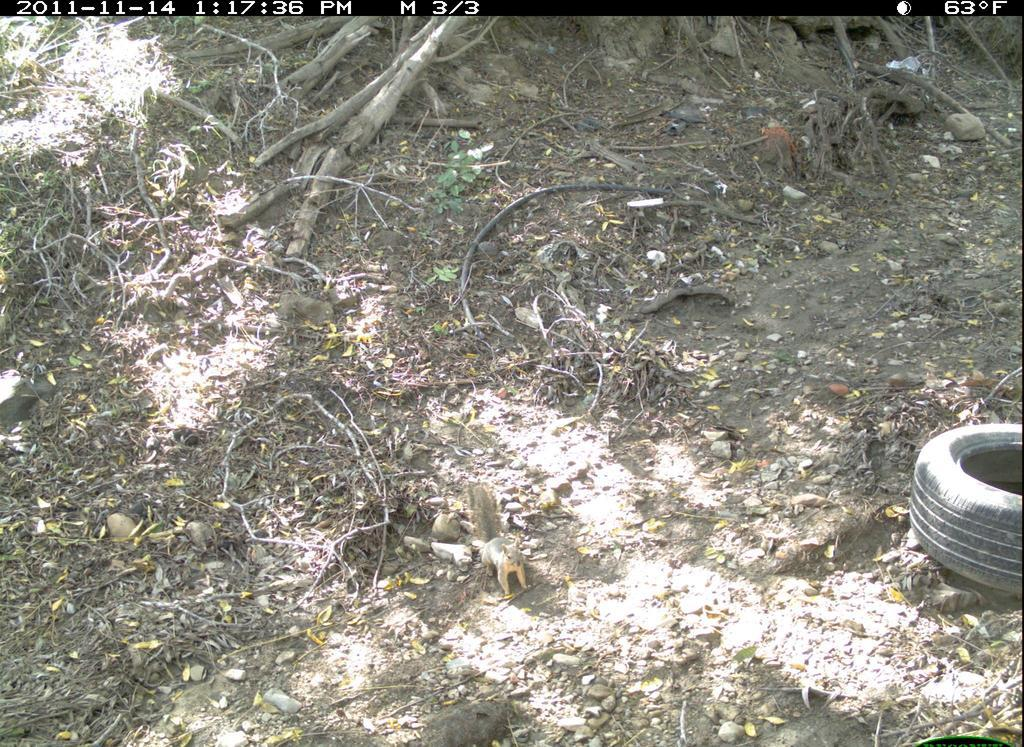squirrel: (455, 478, 545, 605)
